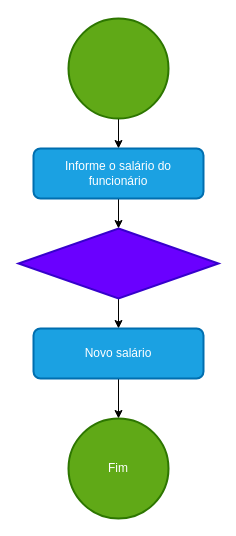
Some shapes in this 236 by 536 pixel diagram are drawn without their labels. Here are the shapes that lost their labels. From the top down, the centre of each, then its label:
At (118,68): "Inicio".
At (118,263): "Processo".
